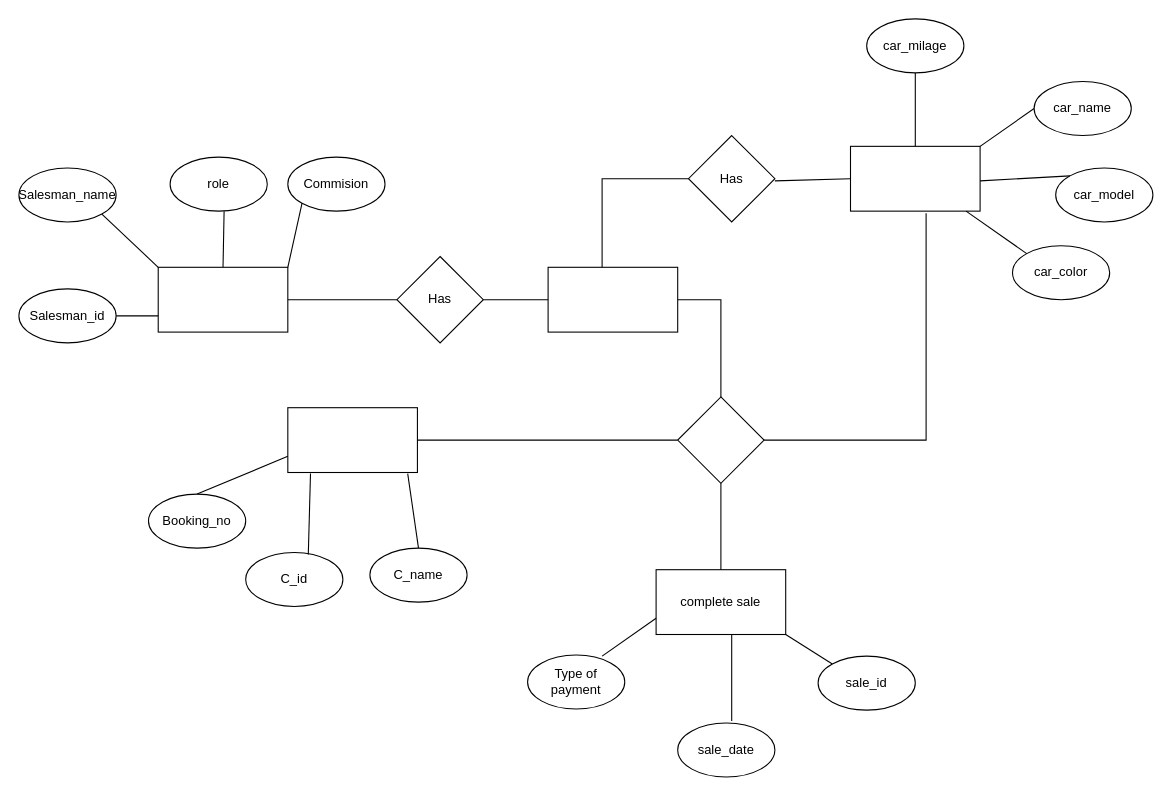
Some shapes in this 1172 by 796 pixel diagram are drawn without their labels. The shapes that lost their labels are listed below. From the top down, each one's centre as x and y in pixels, then its label:
the point at 914,178: car
the point at 222,299: salesman
the point at 612,299: car showroom
the point at 352,440: customer
the point at 720,439: sell
